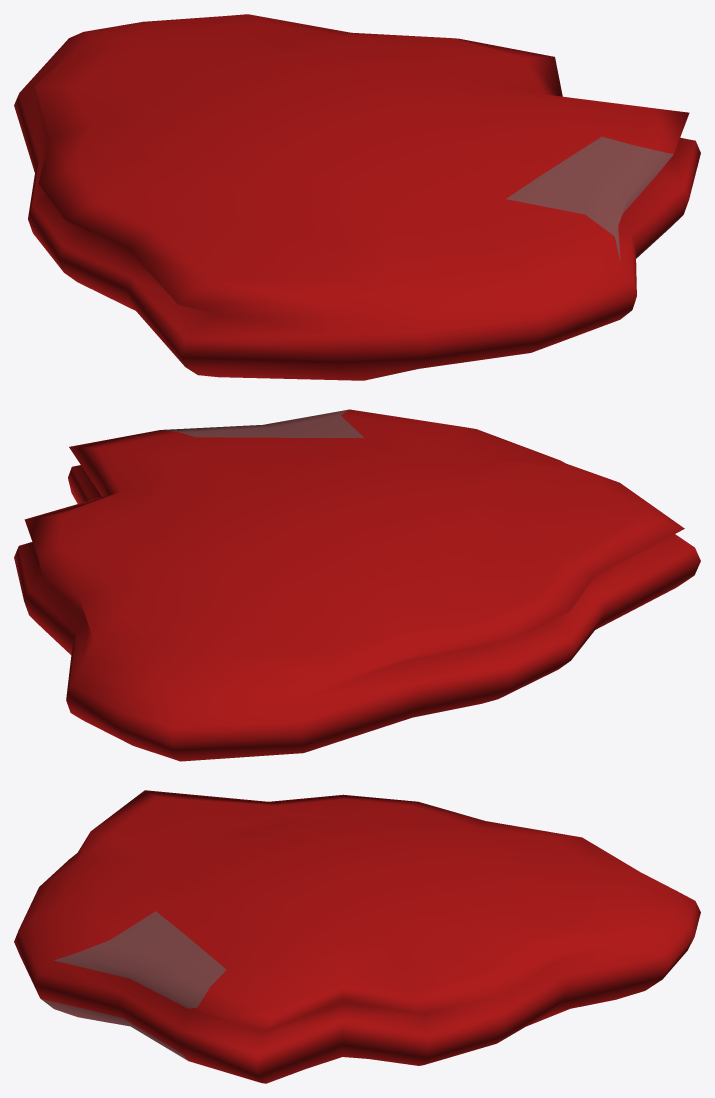
The model's file is Block Red Animation.fbx.
3 views of the same model, one above another, from view 1: azimuth 30°, elevation 25°; view 2: azimuth 150°, elevation 25°; view 3: azimuth 270°, elevation 25° (orthographic). The views are drawn at different scales.
Visible parts, largest first — view 1: pSphere4; view 2: pSphere4; view 3: pSphere4.
Part boxes in pixels (x1=…): pSphere4: x1=14, y1=14, x2=700, y2=380; pSphere4: x1=14, y1=409, x2=700, y2=761; pSphere4: x1=14, y1=790, x2=700, y2=1083.
Bounding box in the file's own units: 6.75 × 1.78 × 7.98.
